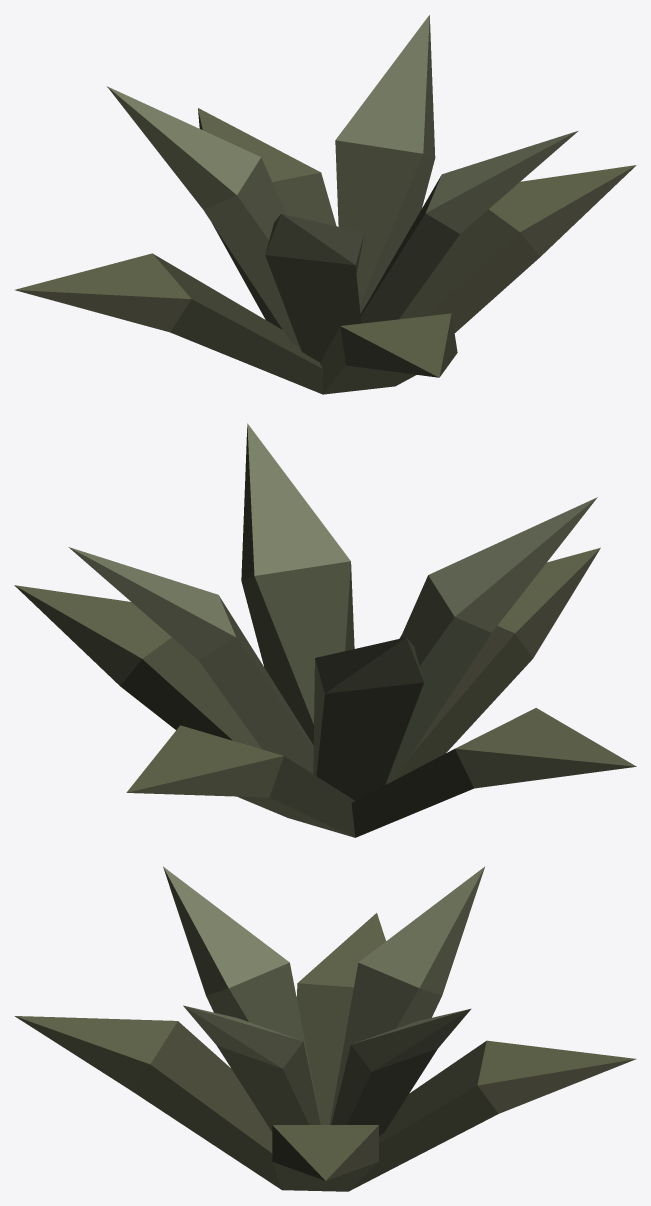
File: TB_D_Env_GrassA_C.FBX
3 renders of one model, top to bottom at view 1: azimuth 30°, elevation 25°; view 2: azimuth 150°, elevation 25°; view 3: azimuth 270°, elevation 25°, orthographic. The views are drawn at different scales.
Visible parts, largest first — view 1: TB_D_Env_GrassA_C; view 2: TB_D_Env_GrassA_C; view 3: TB_D_Env_GrassA_C.
Boxes of the visible parts, x1,y1,x2,y2 form: TB_D_Env_GrassA_C: (15, 15, 636, 394); TB_D_Env_GrassA_C: (14, 423, 636, 837); TB_D_Env_GrassA_C: (14, 866, 636, 1191).
Size of the model in its own units: 1.39 by 0.5867 by 1.36.
